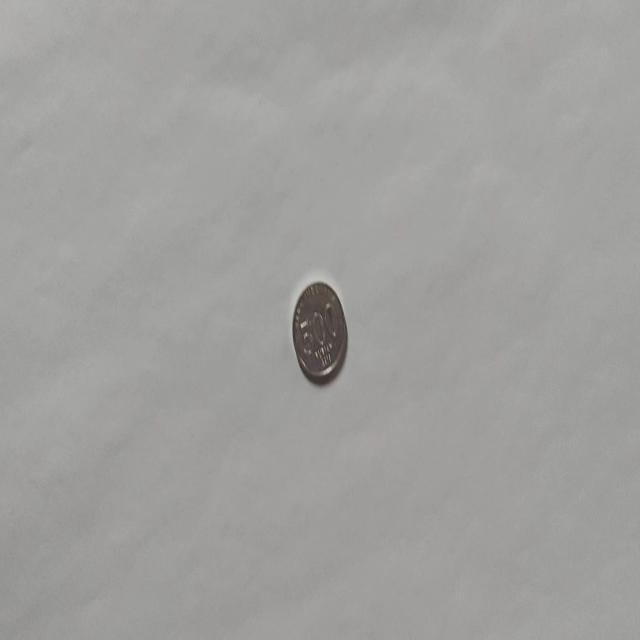lima ratus rupiah: (291, 278, 348, 383)
